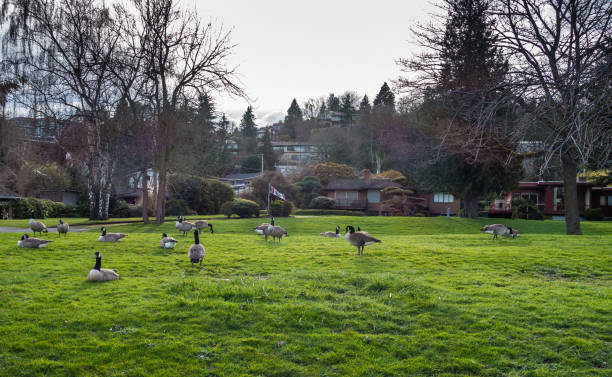goose: (344, 225, 384, 256), (85, 251, 121, 283), (188, 229, 207, 265), (479, 223, 513, 242), (267, 215, 289, 243), (97, 226, 130, 244), (17, 234, 54, 249), (253, 222, 275, 242), (173, 214, 193, 234), (28, 218, 49, 237), (191, 219, 215, 235), (159, 232, 178, 249), (318, 224, 341, 238), (56, 218, 70, 236)
